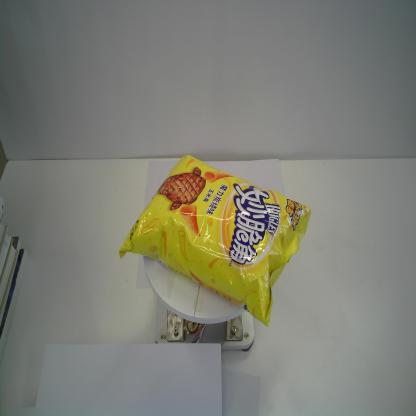Puffed Food: (116, 152, 312, 330)
